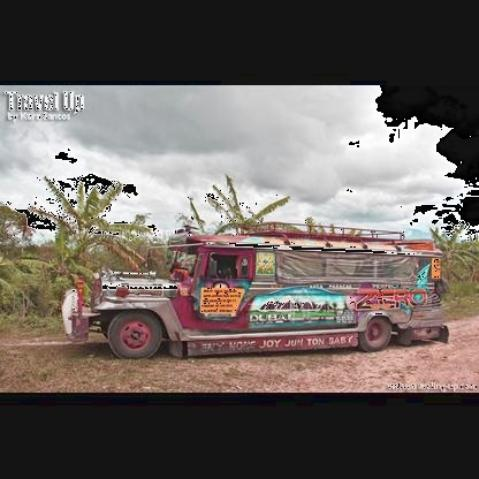jeepney: (37, 212, 458, 367)
